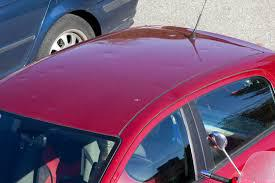roof-dent: (0, 38, 80, 128), (74, 35, 159, 117), (159, 30, 231, 80)
